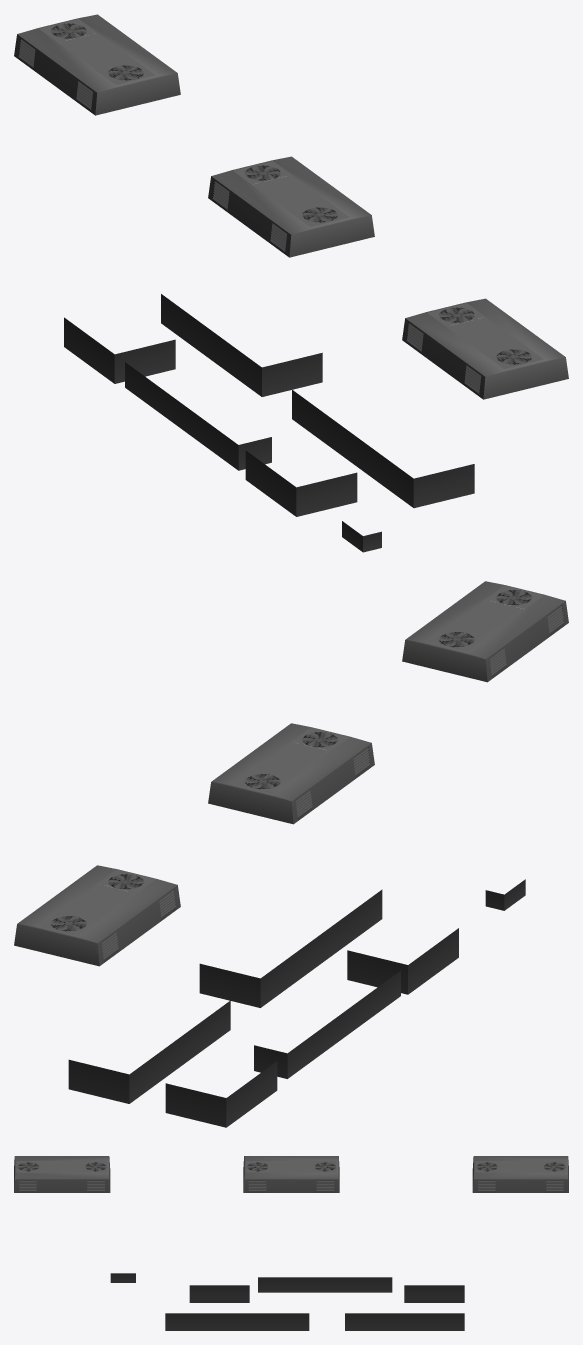
The model's file is HANKYU2000_OBJ01.glb.
3 views of the same model, one above another, from view 1: azimuth 30°, elevation 25°; view 2: azimuth 150°, elevation 25°; view 3: azimuth 270°, elevation 25° (orthographic). The views are drawn at different scales.
Parts seen in each view (by area): view 1: FRAME_ROOT; view 2: FRAME_ROOT; view 3: FRAME_ROOT.
Boxes of the visible parts, x1,y1,x2,y2 form: FRAME_ROOT: [14, 14, 568, 552]; FRAME_ROOT: [14, 581, 568, 1127]; FRAME_ROOT: [14, 1156, 568, 1330].
Size of the model in its own units: 5.53 by 8.04 by 28.51.
2 materials, 2 textured.
